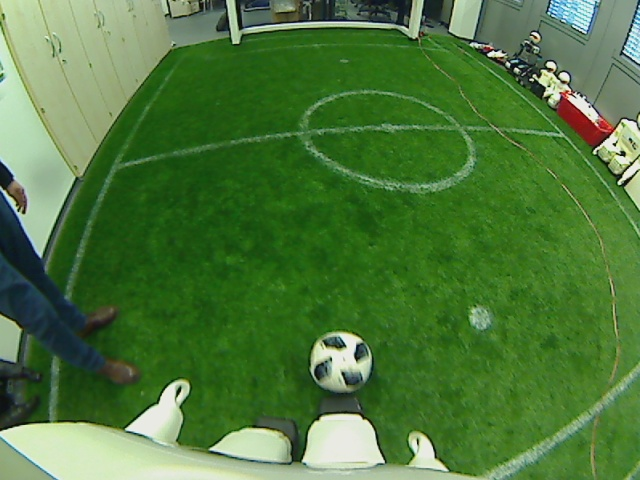ball: (305, 328, 375, 393)
